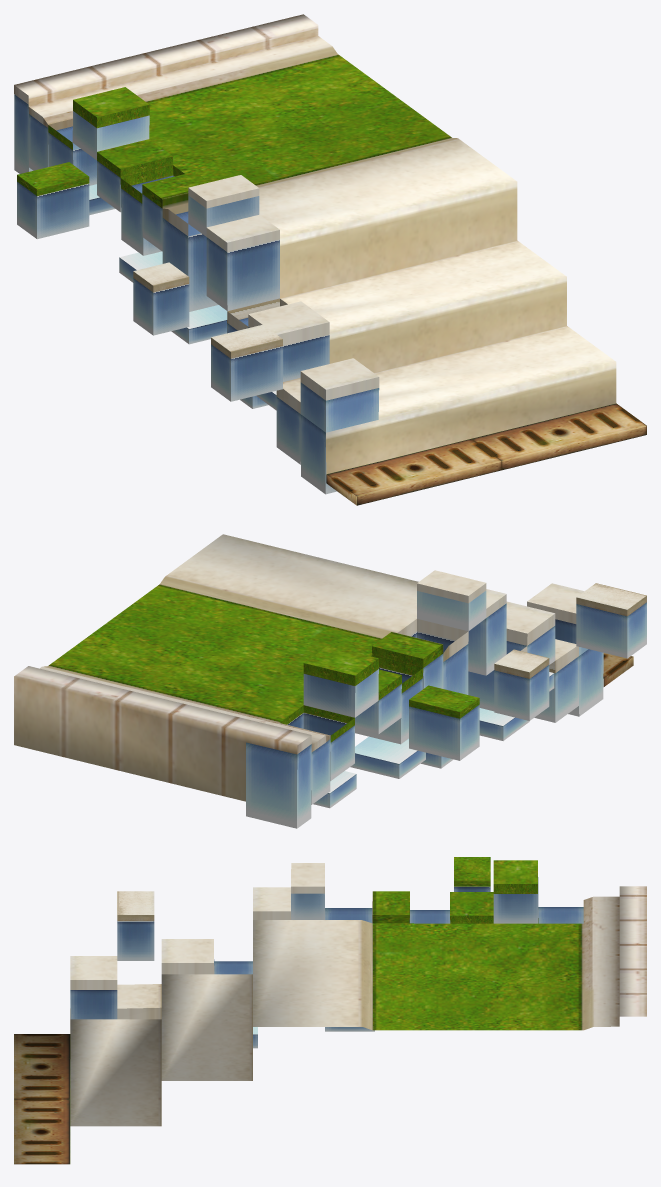
Rendered from a_ESDstand01.glb.
The picture shows the model from 3 angles, top to bottom: view 1: azimuth 30°, elevation 25°; view 2: azimuth 150°, elevation 25°; view 3: azimuth 270°, elevation 25°; orthographic projection. The views are drawn at different scales.
Parts seen in each view (by area): view 1: a_ESDstand01; view 2: a_ESDstand01; view 3: a_ESDstand01.
Boxes of the visible parts, x1,y1,x2,y2 form: a_ESDstand01: (14,14,646,505); a_ESDstand01: (14,534,646,828); a_ESDstand01: (14,857,646,1164).
Bounding box in the file's own units: 5.12 × 2.76 × 8.2.
2 materials, 2 textured.
